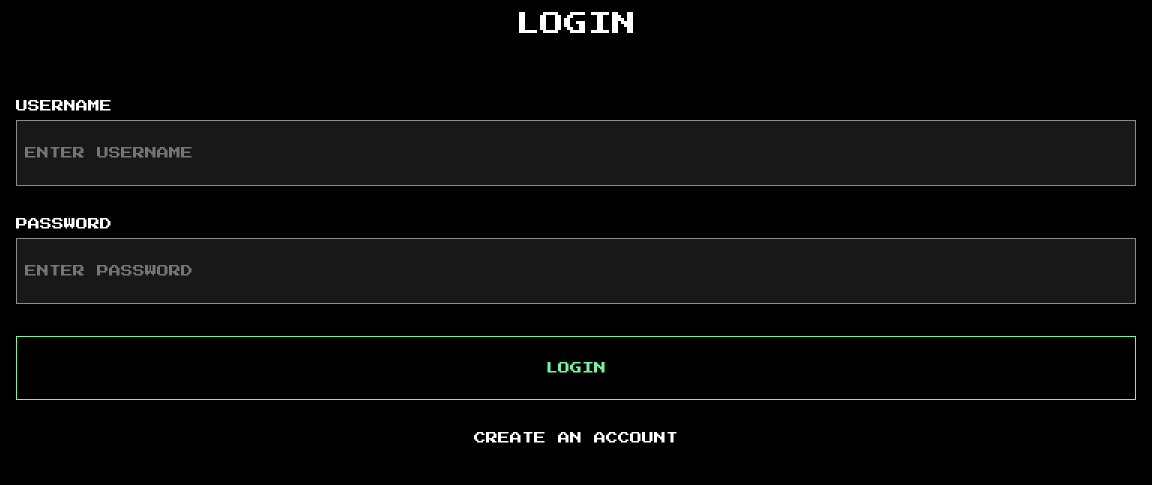
Test: LoginView.vue › displays correct message for 401 error when username & password do not match
The width and height of the screenshot is (1152, 485).
Type "testuser" into the field with placeholder "ENTER USERNAME".
click(576, 153); type("testuser")  # box x1=16 y1=120 x2=1136 y2=186
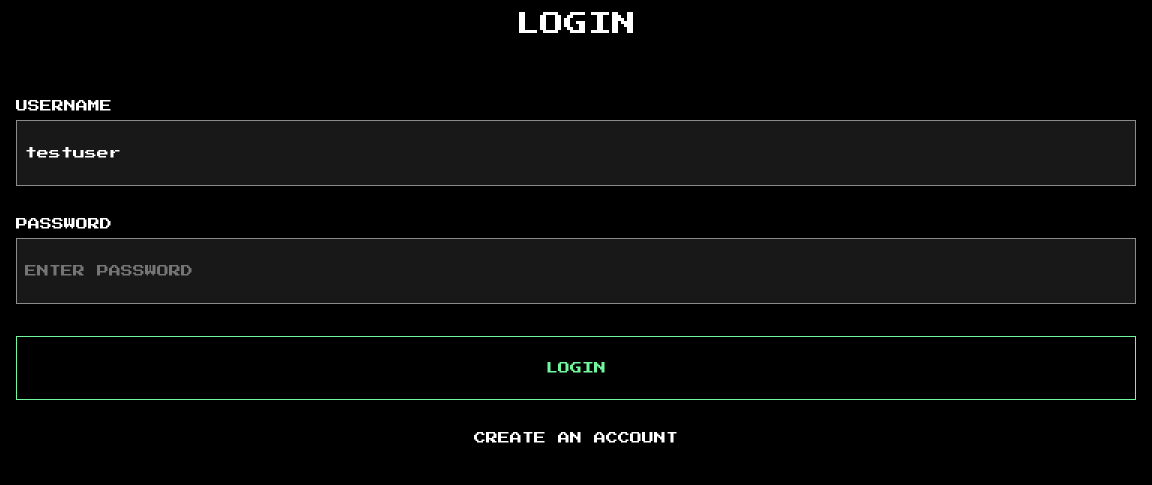
Type "hello" into the password field labelled "PASSWORD".
click(576, 271); type("hello")  # box x1=16 y1=238 x2=1136 y2=304
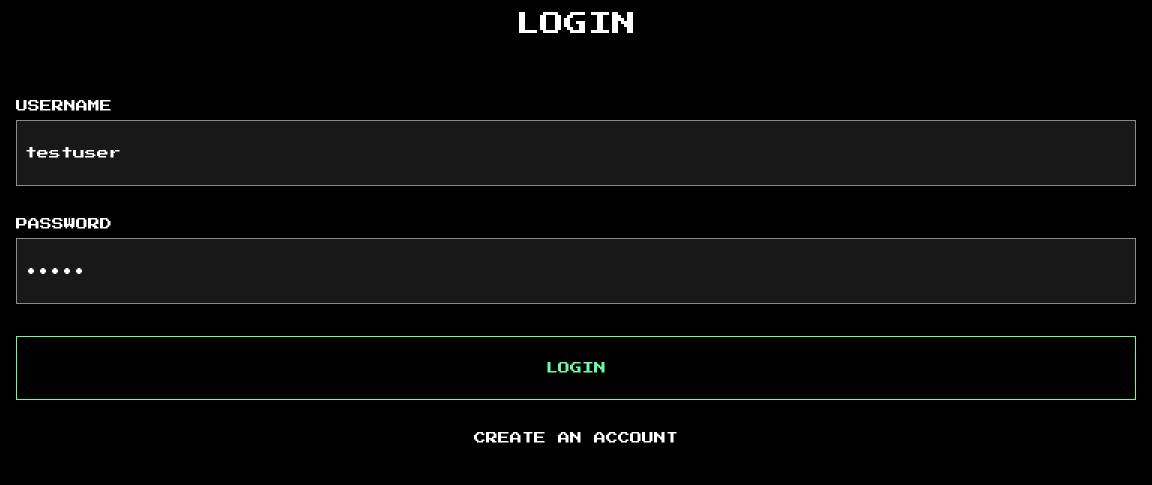
Submit the form from the button "LOGIN", box x1=16 y1=336 x2=1136 y2=400
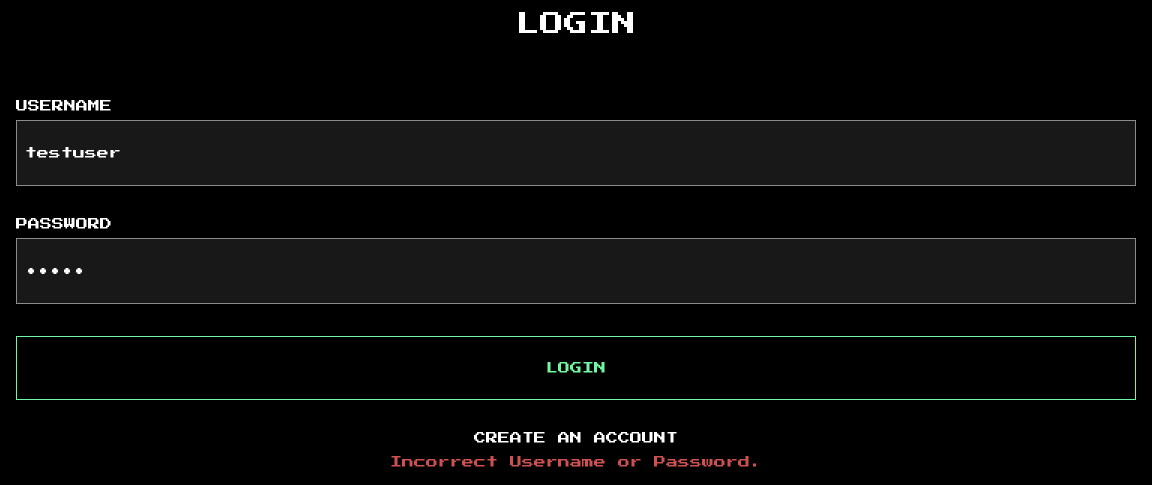
Check: the text with class "error-message" reads "Incorrect Username or Password.", box x1=390 y1=456 x2=762 y2=468
